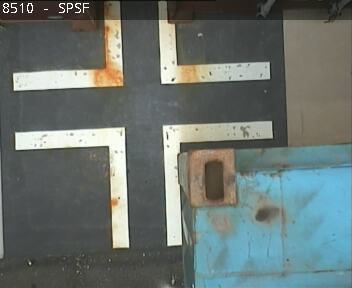groundmarker_1: (13, 120, 272, 247), (12, 1, 272, 89)
